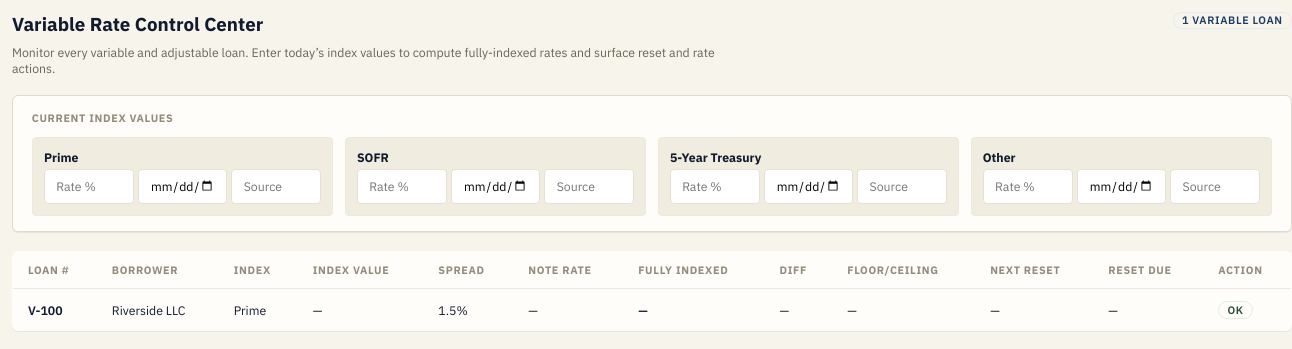
Test: VariableRateControlCenter › lists variable loans and computes fully-indexed rate from an entered index value
This screenshot has width=1292, height=349.
Expected: the row "V-100 Riverside LLC Prime — 1.5% — — — — — — OK" is shown, [12,289,1291,330]
Type "5.5" into the 1st number field with placeholder "Rate %" at (89, 186), box [44,169,134,204]
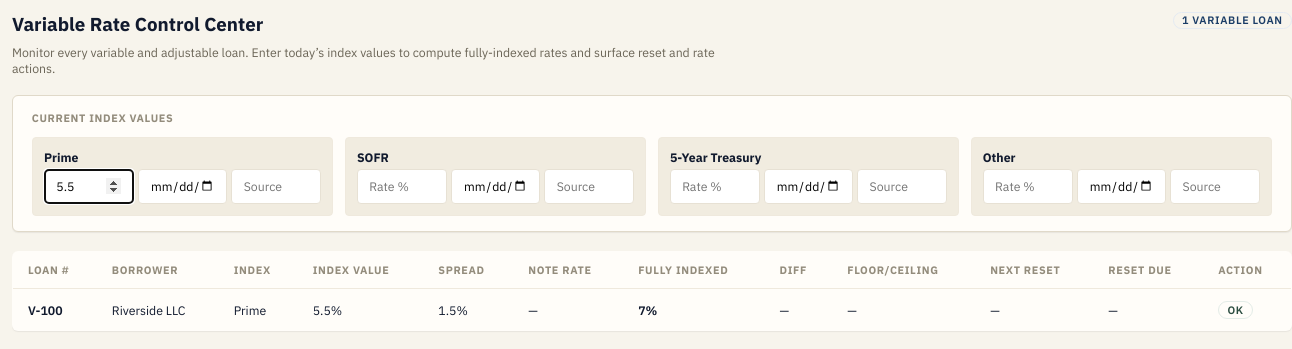
Now the text "7%" is shown, box [623,289,765,330]
